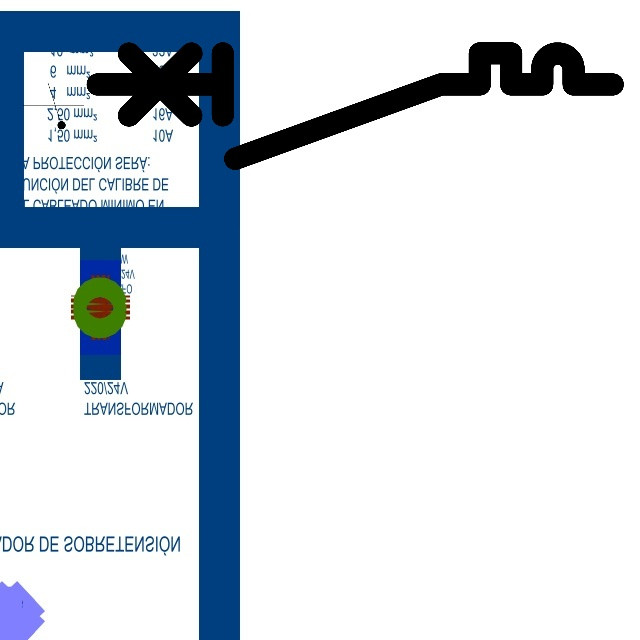interruptor_termomagnetico: (84, 40, 625, 172)
